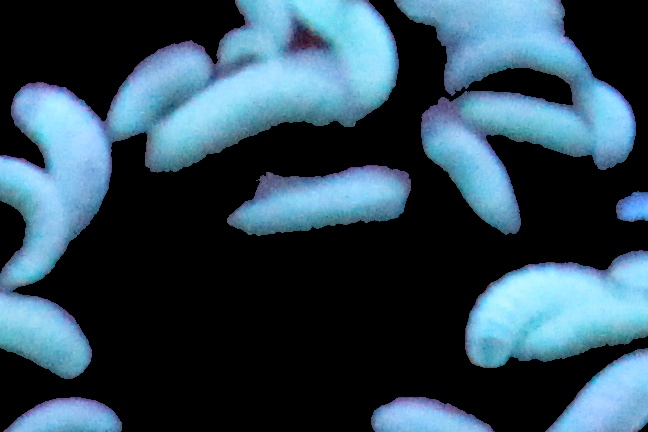larvae: (151, 64, 366, 170), (10, 85, 114, 241), (224, 160, 410, 241), (458, 266, 594, 364), (424, 108, 520, 239), (293, 1, 400, 116), (1, 147, 74, 291), (101, 43, 207, 141), (516, 295, 648, 366), (542, 347, 648, 432), (462, 91, 597, 156), (1, 299, 95, 372), (441, 43, 595, 85), (369, 389, 488, 432), (582, 81, 632, 172), (6, 396, 128, 432)
